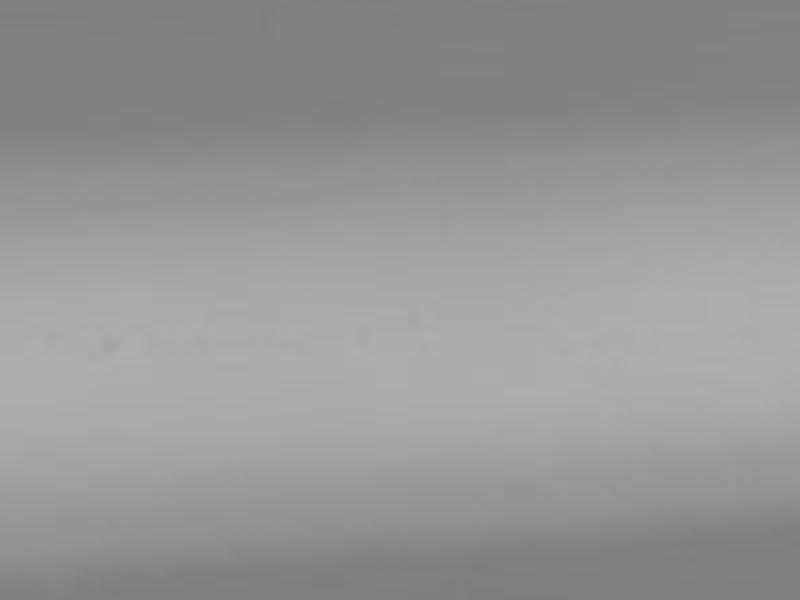defect: (95, 336, 121, 362)
